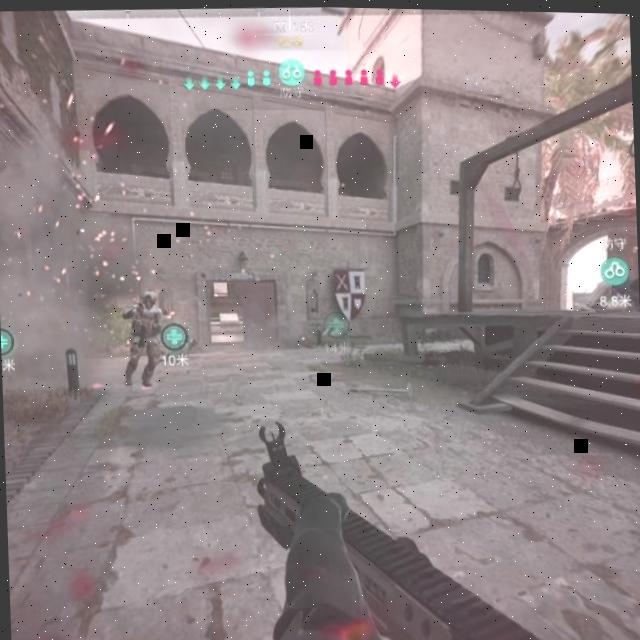MW2_body: (121, 290, 167, 388)
